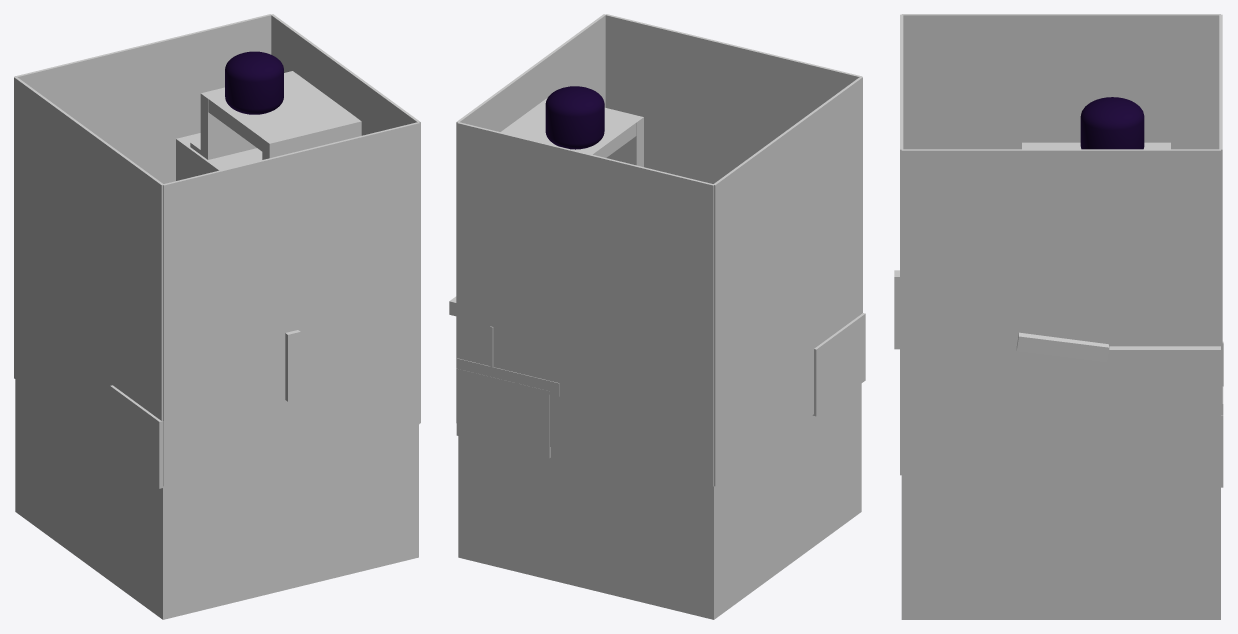
The model's file is World.fbx.
3 renders of one model, left to right at view 1: azimuth 30°, elevation 25°; view 2: azimuth 150°, elevation 25°; view 3: azimuth 270°, elevation 25°, orthographic. The views are drawn at different scales.
Visible parts, largest first — view 1: InvisibleWall1__2_, Base, InvisibleWall1__1_, InvisibleWall1__3_, InvisibleWall1, Cube__17_, Cube__8_, Star, Reference_Size_Base, Cube__15_, Cube__25_, BIG_COlumn (+1 smaller); view 2: InvisibleWall1__3_, Base, InvisibleWall1__1_, InvisibleWall1__2_, InvisibleWall1, Cube__4_, Cube__8_, Star, Cube__17_, Reference_Size_Base, Cube__20_, Cube__15_; view 3: InvisibleWall1, Base, InvisibleWall1__1_, Star, Reference_Size_Base, Cube__13_, Cube__16_, InvisibleWall1__2_, InvisibleWall1__3_, Cube__9_, Cube__17_.
Boxes of the visible parts, box(x1,y1,x2,y2) form: InvisibleWall1__2_: box(162, 122, 419, 486); Base: box(15, 385, 418, 619); InvisibleWall1__1_: box(14, 76, 163, 448); InvisibleWall1__3_: box(14, 14, 271, 183); InvisibleWall1: box(271, 14, 420, 423); Cube__17_: box(205, 73, 355, 151); Cube__8_: box(110, 385, 172, 488); Star: box(225, 51, 283, 114); Reference_Size_Base: box(15, 379, 418, 492); Cube__15_: box(262, 116, 361, 159); Cube__25_: box(200, 71, 295, 159); BIG_COlumn: box(176, 133, 262, 180); InvisibleWall1__3_: box(457, 122, 713, 486); Base: box(458, 384, 861, 619); InvisibleWall1__1_: box(713, 76, 862, 486); InvisibleWall1__2_: box(605, 14, 862, 183); InvisibleWall1: box(456, 14, 605, 422); Cube__4_: box(456, 368, 550, 458); Cube__8_: box(812, 313, 865, 416); Star: box(545, 86, 604, 149); Cube__17_: box(500, 99, 636, 157); Reference_Size_Base: box(550, 384, 861, 492); Cube__20_: box(457, 358, 559, 396); Cube__15_: box(546, 98, 643, 166); InvisibleWall1: box(901, 149, 1220, 476); Base: box(901, 476, 1220, 619); InvisibleWall1__1_: box(901, 14, 1220, 149); Star: box(1080, 97, 1144, 149); Reference_Size_Base: box(901, 476, 1220, 482); Cube__13_: box(1109, 346, 1220, 364); Cube__16_: box(1016, 332, 1108, 361); InvisibleWall1__2_: box(900, 14, 903, 475); InvisibleWall1__3_: box(1219, 14, 1222, 403); Cube__9_: box(894, 270, 899, 349); Cube__17_: box(1036, 142, 1163, 149).
Bounding box in the file's own units: 2104 × 3333 × 2063.
